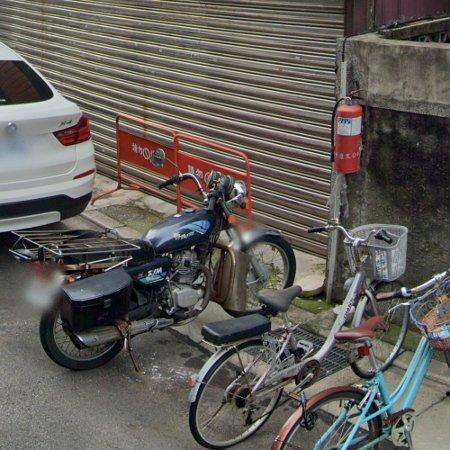bicycles: (190, 225, 409, 450), (272, 271, 450, 450), (351, 311, 409, 378)
